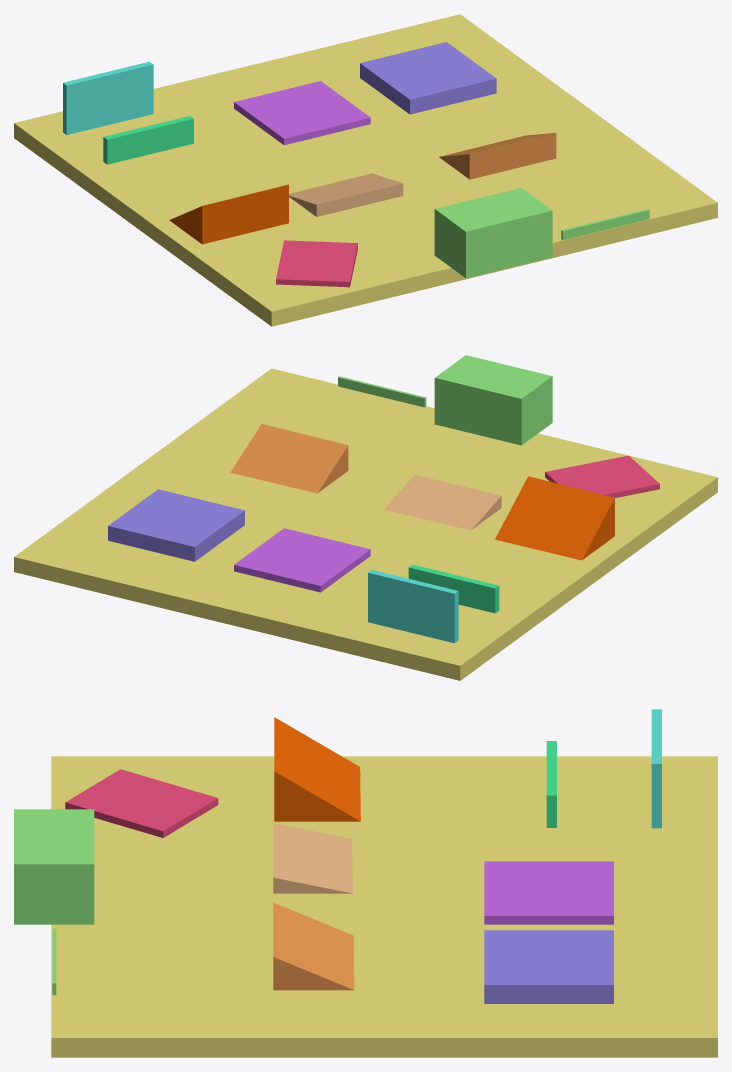
Rendered from prac_stage6.fbx.
The picture shows the model from 3 angles, top to bottom: view 1: azimuth 30°, elevation 25°; view 2: azimuth 150°, elevation 25°; view 3: azimuth 270°, elevation 25°; orthographic projection. The views are drawn at different scales.
Visible parts, largest first — view 1: 立方体, 立方体.001, 立方体.007, 立方体.006, 立方体.009, 立方体.005, 立方体.010, 立方体.002, 立方体.004, 立方体.008, 立方体.003; view 2: 立方体, 立方体.001, 立方体.005, 立方体.007, 立方体.002, 立方体.006, 立方体.009, 立方体.004, 立方体.010, 立方体.008, 立方体.003; view 3: 立方体, 立方体.007, 立方体.001, 立方体.006, 立方体.005, 立方体.010, 立方体.002, 立方体.004, 立方体.009, 立方体.008.
Boxes of the visible parts, x1,y1,x2,y2 form: 立方体: (14, 14, 717, 326); 立方体.001: (434, 188, 552, 278); 立方体.007: (360, 42, 496, 114); 立方体.006: (234, 81, 370, 145); 立方体.009: (63, 61, 153, 134); 立方体.005: (169, 184, 288, 244); 立方体.010: (276, 240, 357, 287); 立方体.002: (439, 132, 556, 179); 立方体.004: (289, 173, 403, 216); 立方体.008: (103, 116, 193, 164); 立方体.003: (561, 209, 649, 240); 立方体: (14, 368, 717, 680); 立方体.001: (434, 355, 552, 445); 立方体.005: (495, 476, 614, 560); 立方体.007: (108, 489, 244, 561); 立方体.002: (230, 424, 348, 493); 立方体.006: (234, 528, 370, 592); 立方体.009: (368, 570, 458, 643); 立方体.004: (384, 474, 501, 530); 立方体.010: (545, 455, 659, 497); 立方体.008: (408, 564, 499, 613); 立方体.003: (338, 376, 426, 407); 立方体: (51, 756, 717, 1057); 立方体.007: (484, 930, 613, 1003); 立方体.001: (14, 809, 94, 924); 立方体.006: (484, 861, 613, 924); 立方体.005: (274, 717, 360, 821); 立方体.010: (65, 769, 218, 837); 立方体.002: (273, 902, 354, 990); 立方体.004: (273, 823, 352, 893); 立方体.009: (651, 709, 661, 828); 立方体.008: (546, 741, 556, 827).
Bounding box in the file's own units: 1029 × 163 × 1087.
